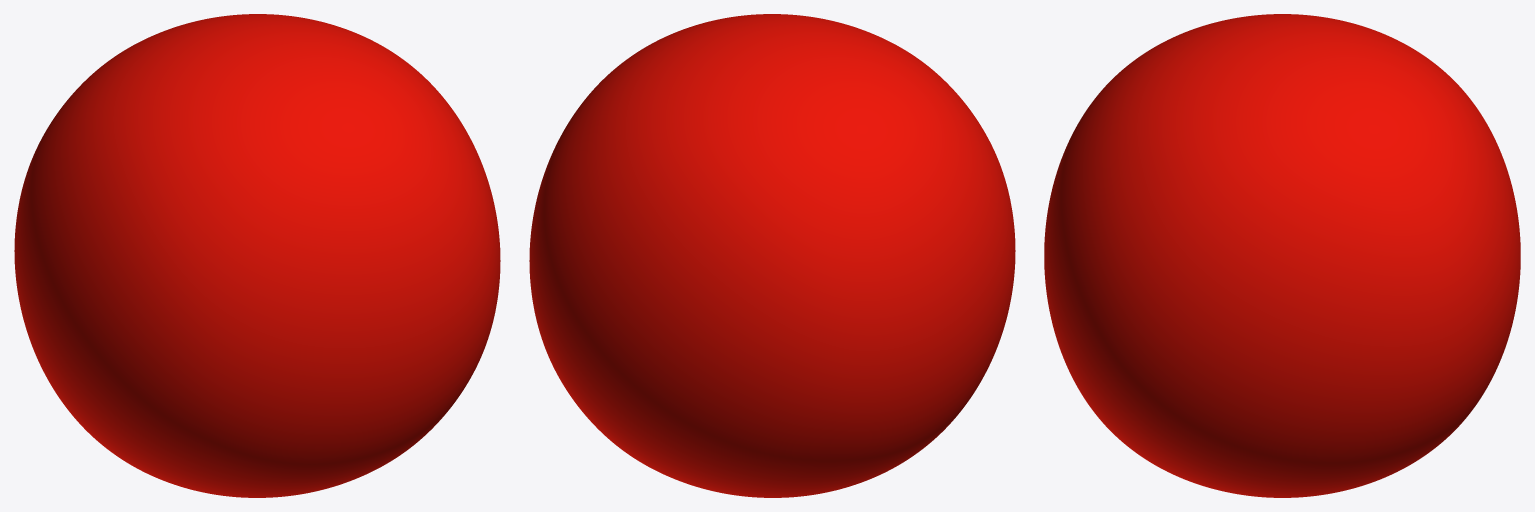
The model's file is ball.fbx.
3 views of the same model, side by side, from view 1: azimuth 30°, elevation 25°; view 2: azimuth 150°, elevation 25°; view 3: azimuth 270°, elevation 25° (orthographic).
Parts seen in each view (by area): view 1: Cube; view 2: Cube; view 3: Cube.
Part boxes in pixels (<box>): Cube: <box>14,14,500,497</box>; Cube: <box>529,14,1015,497</box>; Cube: <box>1044,14,1520,497</box>.
Size of the model in its own units: 8.4 by 8.4 by 8.4.
